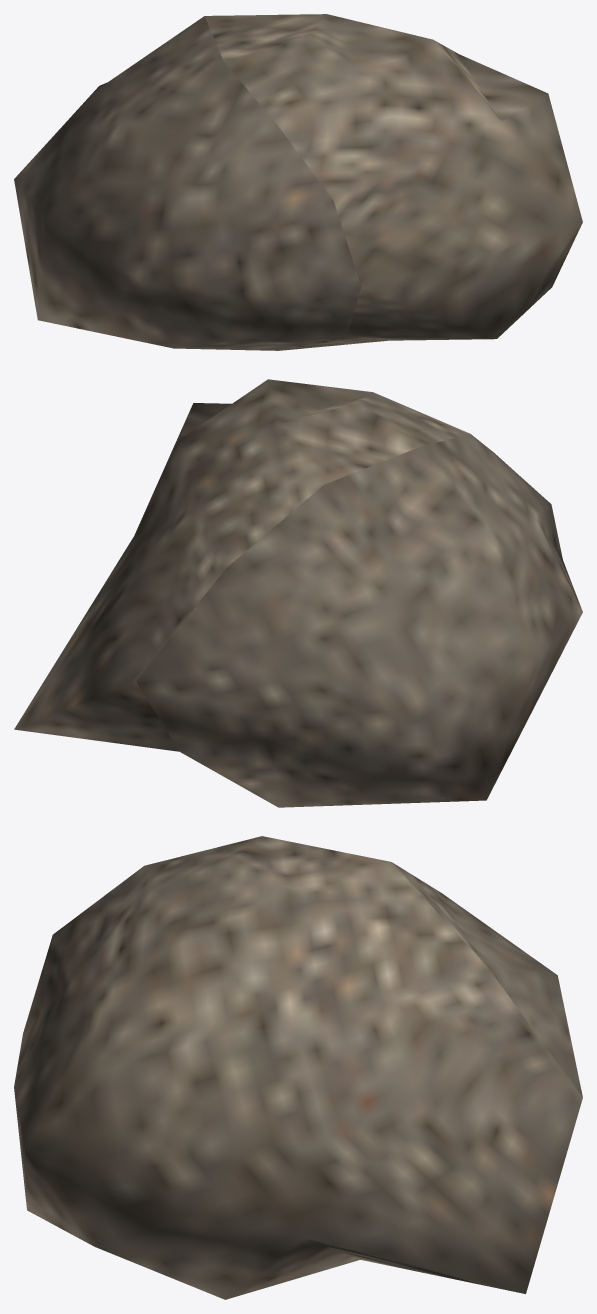
The model's file is rock_Big.fbx.
The picture shows the model from 3 angles, top to bottom: view 1: azimuth 30°, elevation 25°; view 2: azimuth 150°, elevation 25°; view 3: azimuth 270°, elevation 25°; orthographic projection. The views are drawn at different scales.
Parts seen in each view (by area): view 1: rock_Big; view 2: rock_Big; view 3: rock_Big.
Part boxes in pixels (x1,y1,x2,y2): rock_Big: (14, 14, 582, 350); rock_Big: (14, 379, 582, 807); rock_Big: (14, 836, 582, 1299).
Size of the model in its own units: 305 by 209 by 296.
Materials: 1 (1 with a texture image).
